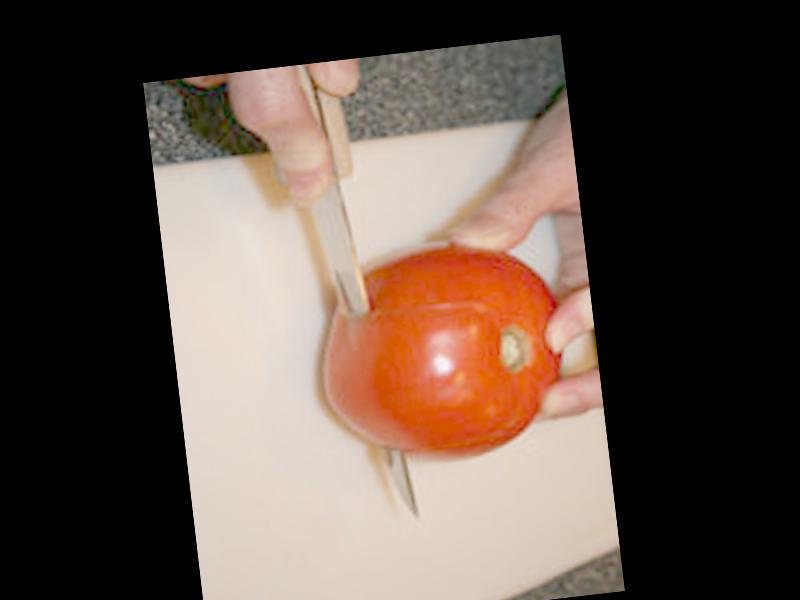Tomato: (310, 234, 575, 476)
